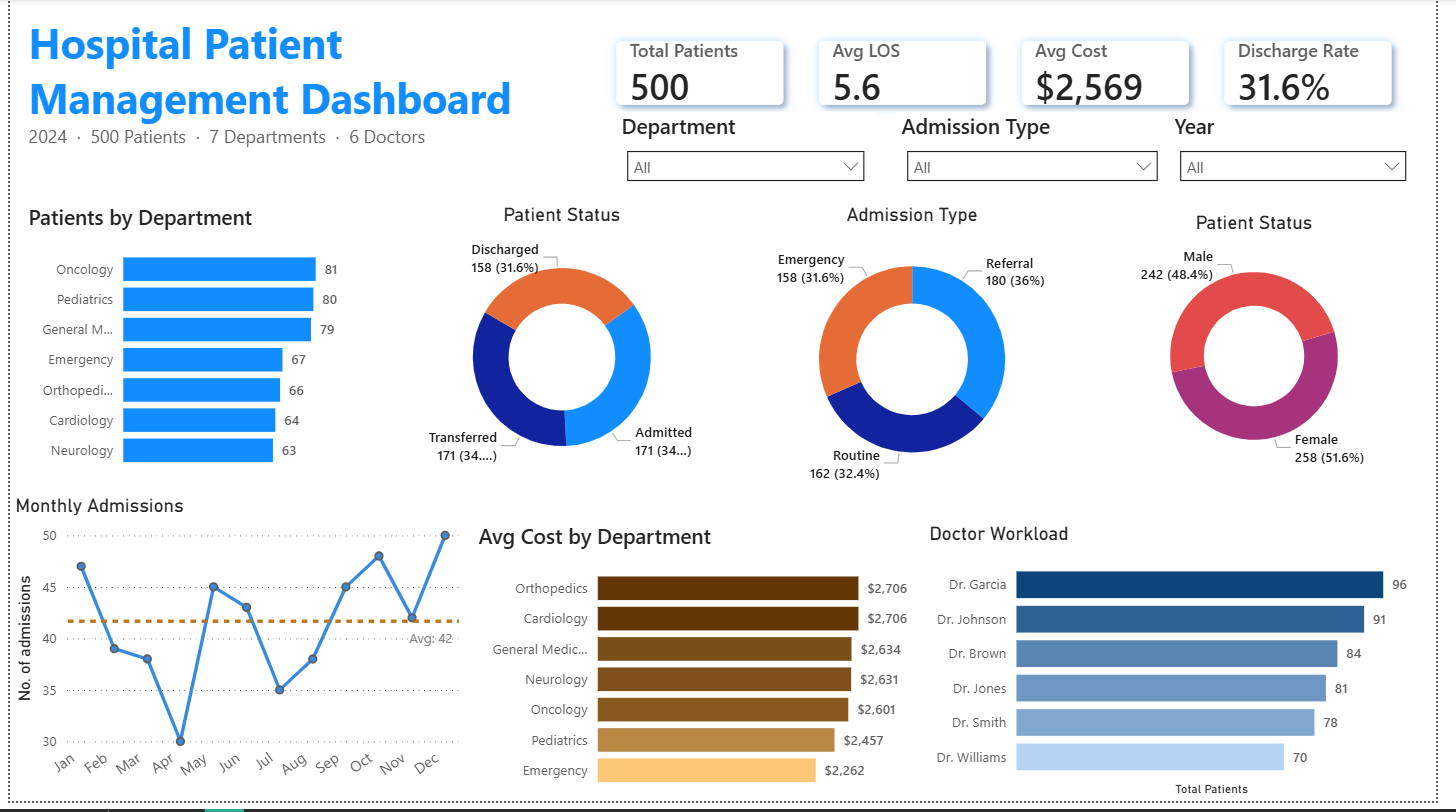

The dashboard page shown, as its layout file describes it:
{"tool":"powerbi","page":{"name":"Overrview","canvas":[1280,720],"ordinal":0},"visuals":[{"type":"cardVisual","fields":{"Data":["hospital_db patients.Total Patients","hospital_db patients.Avg LOS","hospital_db patients.Avg Cost","hospital_db patients.Discharge Rate"]},"box":[515.5,8.8,756.7,115.7],"z":0},{"type":"slicer","title":"Department","fields":{"Values":["hospital_db patients.Department"]},"box":[543.7,101.2,233.4,72.9],"z":1},{"type":"slicer","title":"Admission Type","fields":{"Values":["hospital_db patients.Status"]},"box":[795.6,101.2,245.1,72.9],"z":2},{"type":"slicer","title":"Year","fields":{"Values":["hospital_db patients.Admission_Date.Variation.Date Hierarchy.Quarter"]},"box":[1040.7,101.2,222.7,72.9],"z":3},{"type":"clusteredBarChart","title":"Patients by Department","fields":{"Y":["CountNonNull(hospital_db patients.Patient_ID)"],"Category":["hospital_db patients.Department"]},"box":[11.7,182.9,308.3,249],"z":4},{"type":"donutChart","title":"Admission Type ","fields":{"Category":["hospital_db patients.Admission_Type"],"Y":["CountNonNull(hospital_db patients.Admission_Type)"]},"box":[650.7,182.9,318.1,261.6],"z":5},{"type":"donutChart","title":"Patient Status","fields":{"Category":["hospital_db patients.Status"],"Y":["CountNonNull(hospital_db patients.Status)"]},"box":[351.1,182.9,288.9,257.8],"z":7},{"type":"clusteredBarChart","title":"Avg Cost by Department","fields":{"Category":["hospital_db patients.Department"],"Y":["Avg(hospital_db patients.Treatment_Cost)"]},"box":[415.3,469.8,394.9,250],"z":8},{"type":"lineChart","title":"Monthly Admissions","fields":{"Y":["CountNonNull(hospital_db patients.Patient_ID)"],"Category":["hospital_db patients.Admission_Month"]},"box":[0,444.5,407.5,275.3],"z":9},{"type":"clusteredBarChart","title":"Doctor Workload","fields":{"Category":["hospital_db patients.Doctor"],"Y":["hospital_db patients.Total Patients"]},"box":[820.9,469.8,438.7,250],"z":10},{"type":"donutChart","title":"Patient Status","fields":{"Category":["hospital_db patients.Gender"],"Y":["CountNonNull(hospital_db patients.Gender)"]},"box":[976.5,190.6,280.1,241.2],"z":11},{"type":"textbox","box":[11.7,8.8,503.8,149.8],"z":12}]}

Visuals, with their boxes in screenshot pixels (x1, y1, x2, y2), scaled from the page's 1280x720 canvas onto the 1456x812 screenshot:
cardVisual - hospital_db patients.Total Patients x hospital_db patients.Avg LOS: bbox=[586, 10, 1447, 140]
"Department" slicer: bbox=[618, 114, 884, 196]
"Admission Type" slicer: bbox=[905, 114, 1184, 196]
"Year" slicer: bbox=[1184, 114, 1437, 196]
"Patients by Department" clusteredBarChart: bbox=[13, 206, 364, 487]
"Admission Type " donutChart: bbox=[740, 206, 1102, 501]
"Patient Status" donutChart: bbox=[399, 206, 728, 497]
"Avg Cost by Department" clusteredBarChart: bbox=[472, 530, 922, 811]
"Monthly Admissions" lineChart: bbox=[0, 501, 464, 811]
"Doctor Workload" clusteredBarChart: bbox=[934, 530, 1433, 811]
"Patient Status" donutChart: bbox=[1111, 215, 1429, 487]
textbox: bbox=[13, 10, 586, 179]
